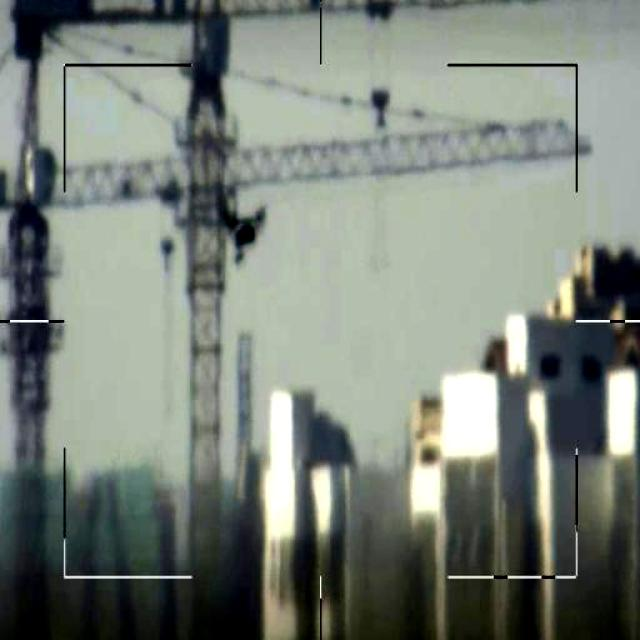bird: (221, 194, 270, 269)
